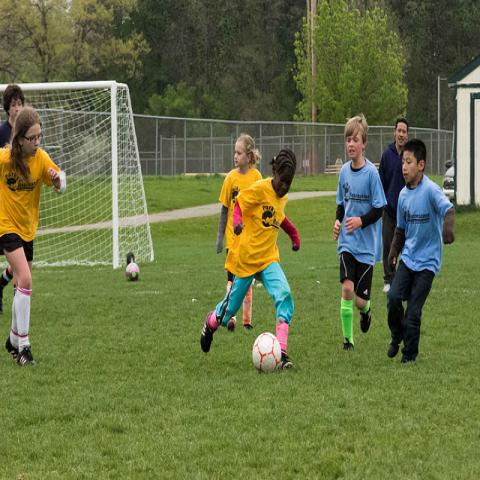car: (442, 159, 454, 200)
